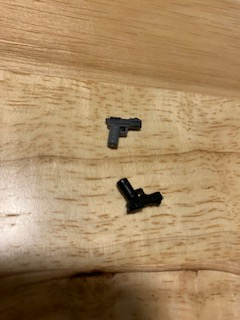pistol: (113, 176, 168, 216), (104, 113, 144, 152)
